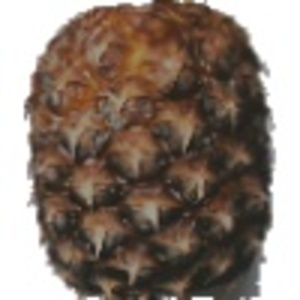abacaxi: (23, 1, 280, 296)
